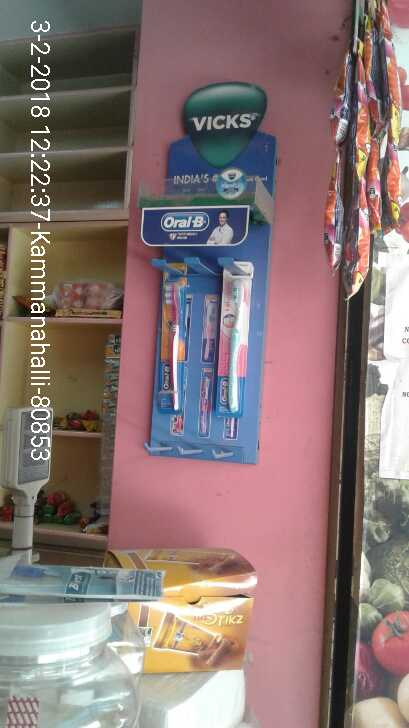oralb: (153, 267, 194, 414), (213, 268, 249, 416)
